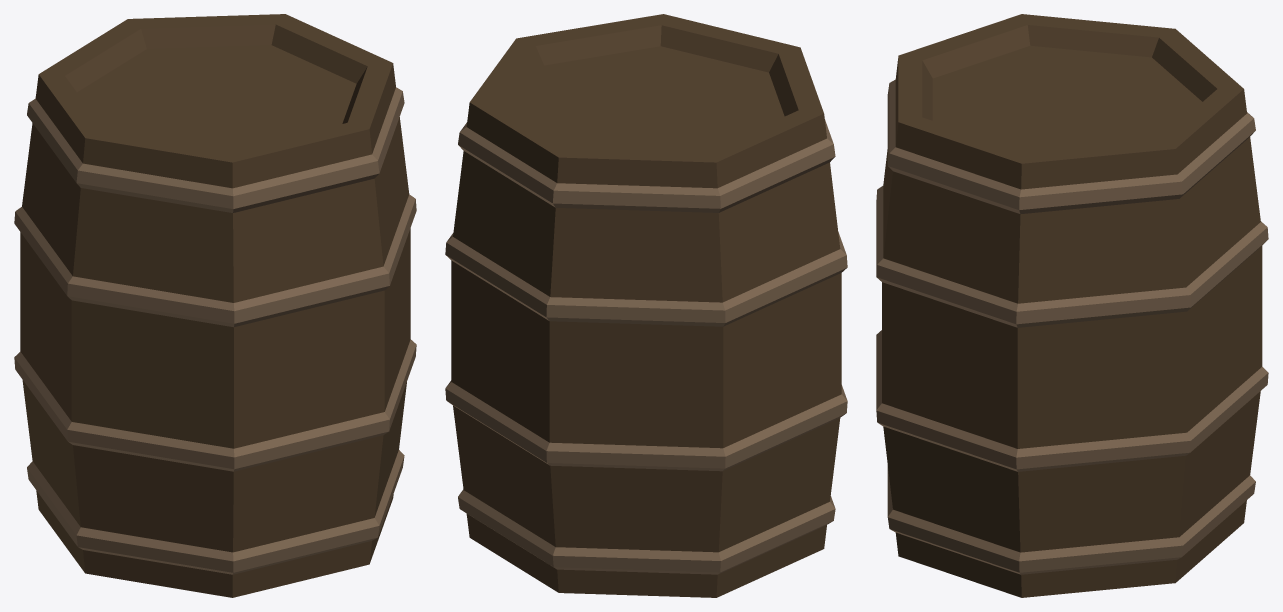
3 views of the same model, side by side, from view 1: azimuth 30°, elevation 25°; view 2: azimuth 150°, elevation 25°; view 3: azimuth 270°, elevation 25° (orthographic).
Visible parts, largest first — view 1: Circle; view 2: Circle; view 3: Circle.
Part boxes in pixels (x1,y1,x2,y2): Circle: (14, 14, 416, 597); Circle: (445, 14, 847, 597); Circle: (876, 14, 1268, 597).
Bounding box in the file's own units: 51.57 × 61.41 × 50.28.
